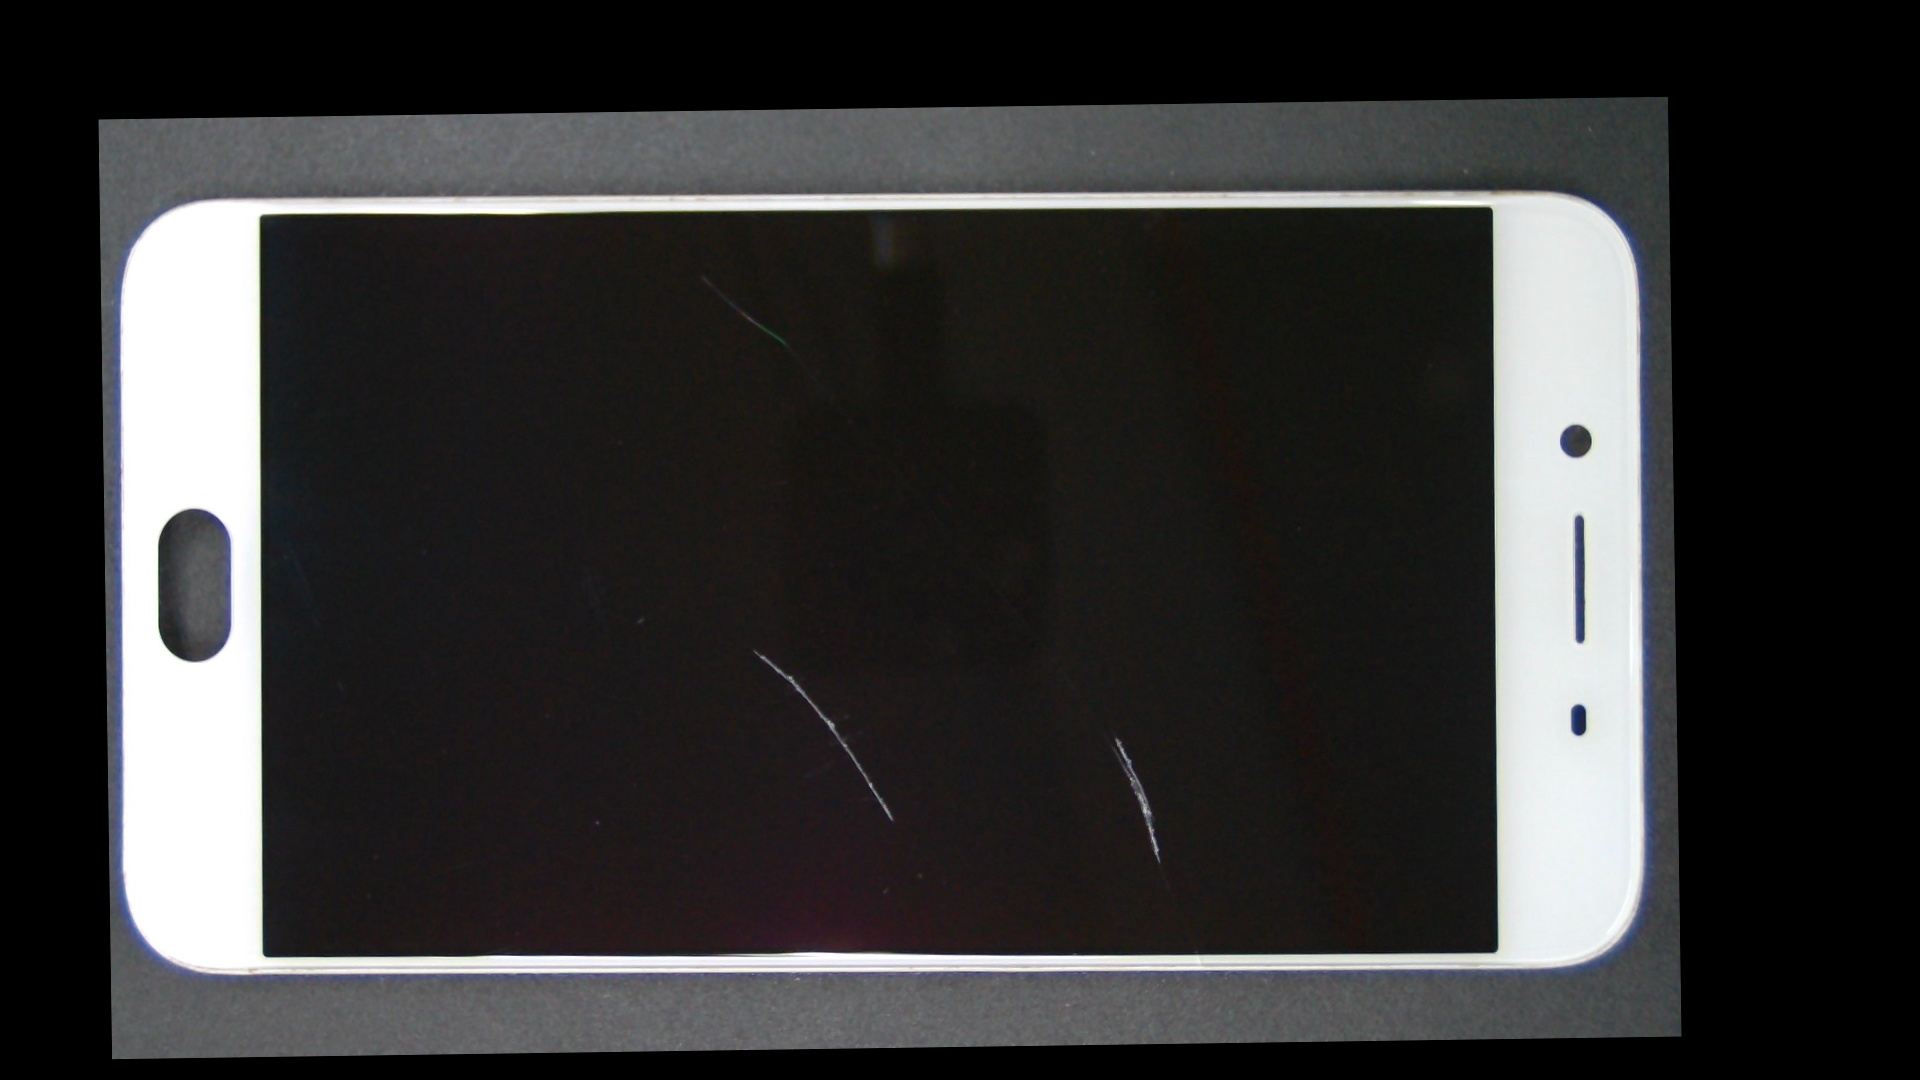oil: (607, 413, 1623, 1052), (426, 375, 1083, 923), (397, 186, 1007, 369)
